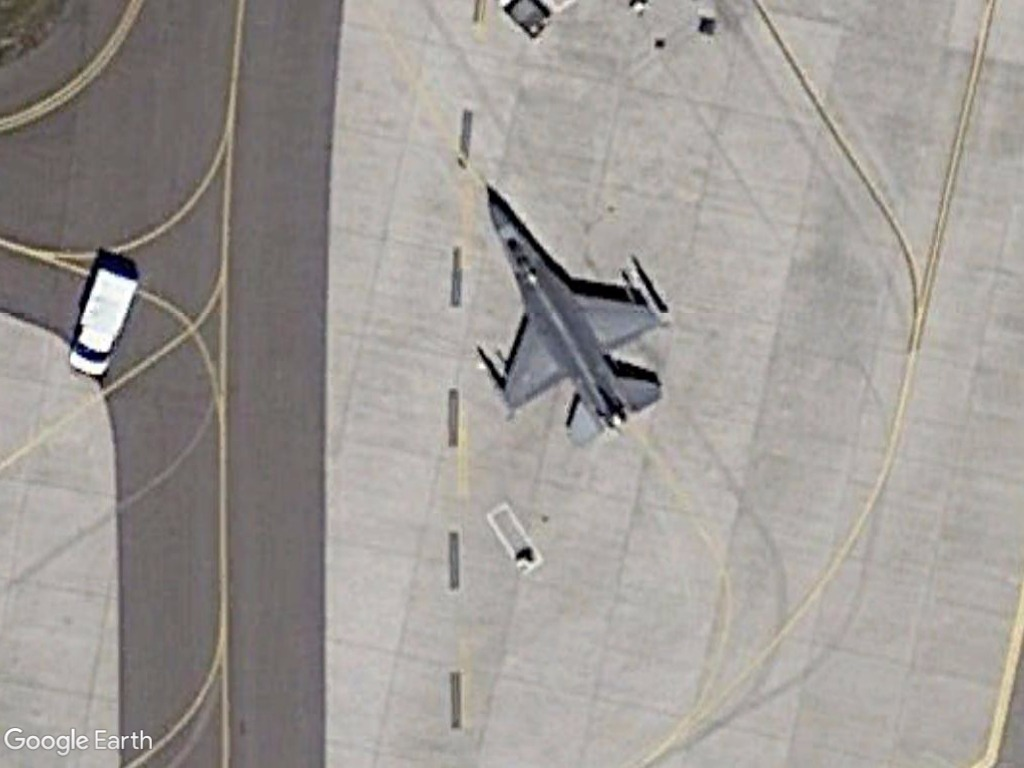fighter: (470, 193, 673, 452)
van: (59, 261, 145, 385)
